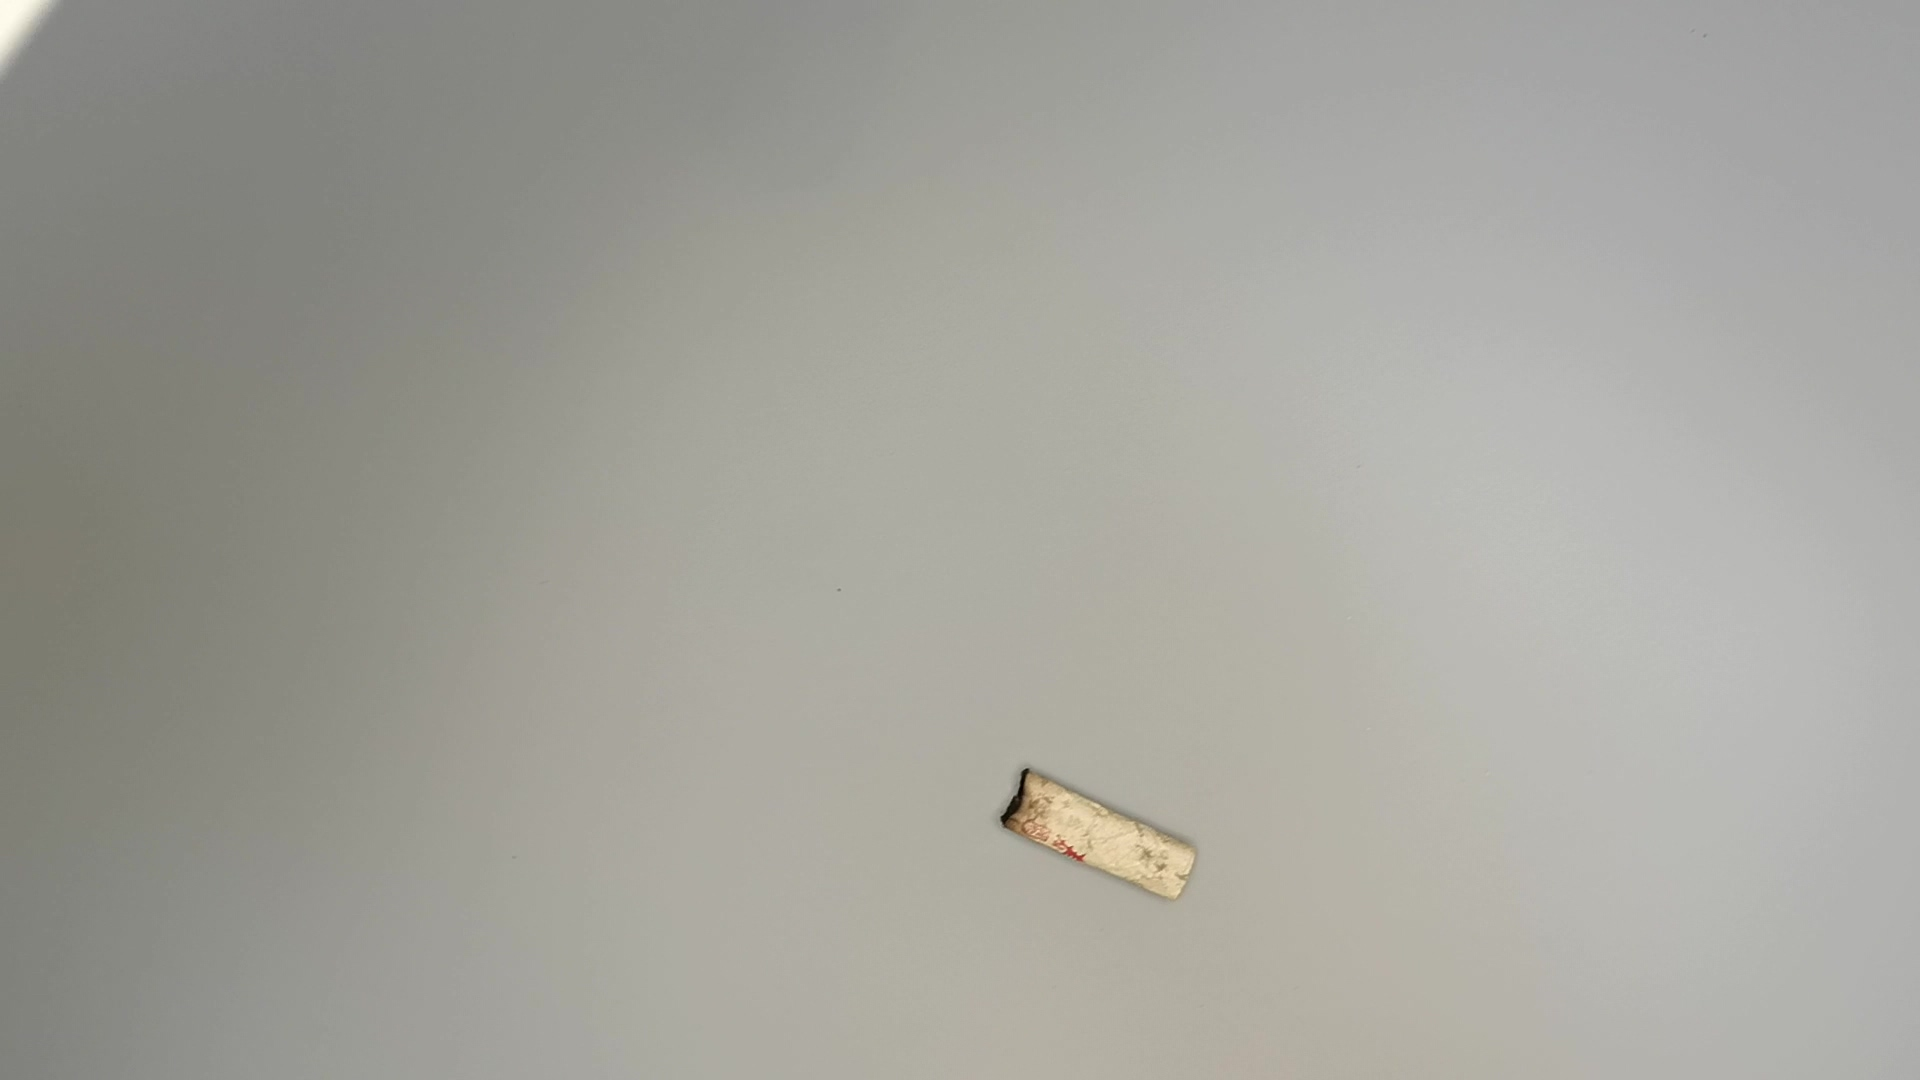cigarette: (986, 752, 1207, 909)
